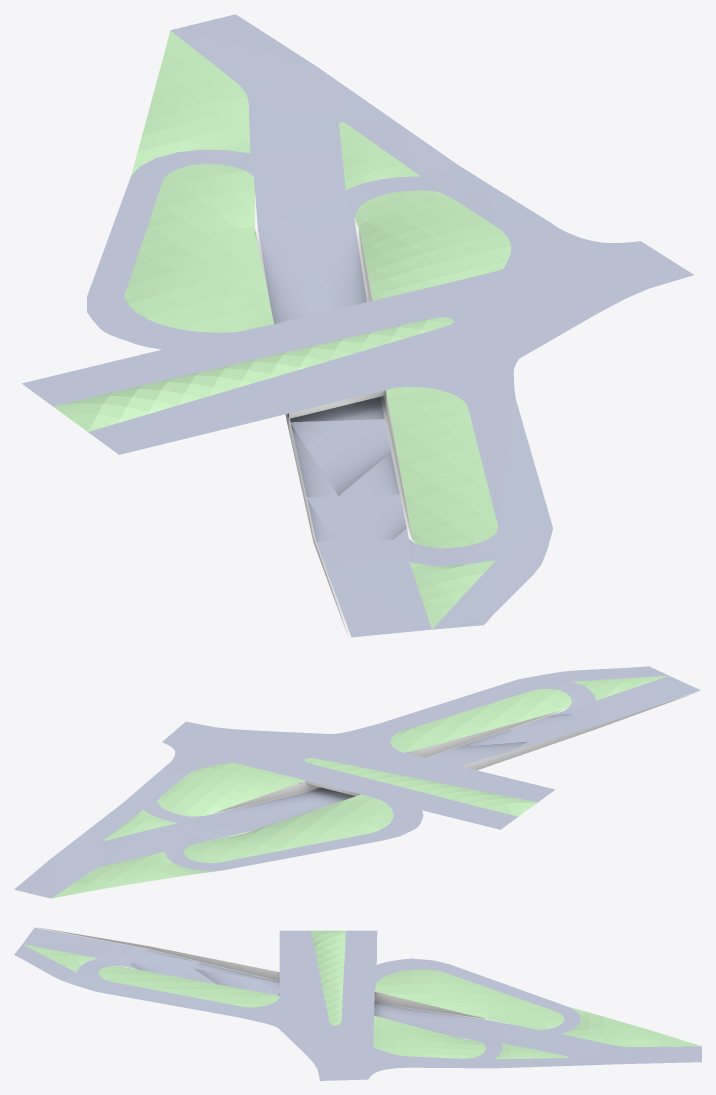
Rendered from Abai-Zhandosov.glb.
The picture shows the model from 3 angles, top to bottom: view 1: azimuth 30°, elevation 25°; view 2: azimuth 150°, elevation 25°; view 3: azimuth 270°, elevation 25°; orthographic projection. The views are drawn at different scales.
Parts seen in each view (by area): view 1: group_1, group_2.005, group_2.004, group_2.003, group_2.002, group_2.006, group_0, group_2, group_2.001; view 2: group_1, group_2.005, group_2.003, group_2.004, group_0, group_2.006, group_2.002, group_2, group_2.001; view 3: group_1, group_2.005, group_2.004, group_2.003, group_2.002, group_2.006, group_0, group_2, group_2.001.
Part boxes in pixels (left/top/right/bottom): group_1: left=22, top=14, right=693, bottom=637; group_2.005: left=124, top=163, right=273, bottom=332; group_2.004: left=386, top=387, right=497, bottom=548; group_2.003: left=354, top=190, right=511, bottom=300; group_2.002: left=131, top=30, right=250, bottom=174; group_2.006: left=53, top=317, right=453, bottom=431; group_0: left=255, top=194, right=415, bottom=637; group_2: left=409, top=560, right=495, bottom=628; group_2.001: left=339, top=122, right=420, bottom=189; group_1: left=14, top=666, right=700, bottom=898; group_2.005: left=183, top=794, right=393, bottom=863; group_2.003: left=157, top=762, right=305, bottom=816; group_2.004: left=390, top=689, right=571, bottom=752; group_0: left=207, top=690, right=701, bottom=839; group_2.006: left=304, top=758, right=537, bottom=816; group_2.002: left=51, top=852, right=221, bottom=898; group_2: left=572, top=676, right=667, bottom=700; group_2.001: left=104, top=810, right=177, bottom=840; group_1: left=14, top=927, right=701, bottom=1080; group_2.005: left=375, top=969, right=563, bottom=1029; group_2.004: left=98, top=966, right=279, bottom=1007; group_2.003: left=373, top=1015, right=485, bottom=1058; group_2.002: left=561, top=1007, right=701, bottom=1046; group_2.006: left=311, top=930, right=345, bottom=1025; group_0: left=35, top=927, right=517, bottom=1039; group_2: left=23, top=944, right=97, bottom=972; group_2.001: left=495, top=1043, right=568, bottom=1058.
Bounding box in the file's own units: 176 × 6.24 × 333.
Materials: 3 (2 with a texture image).
